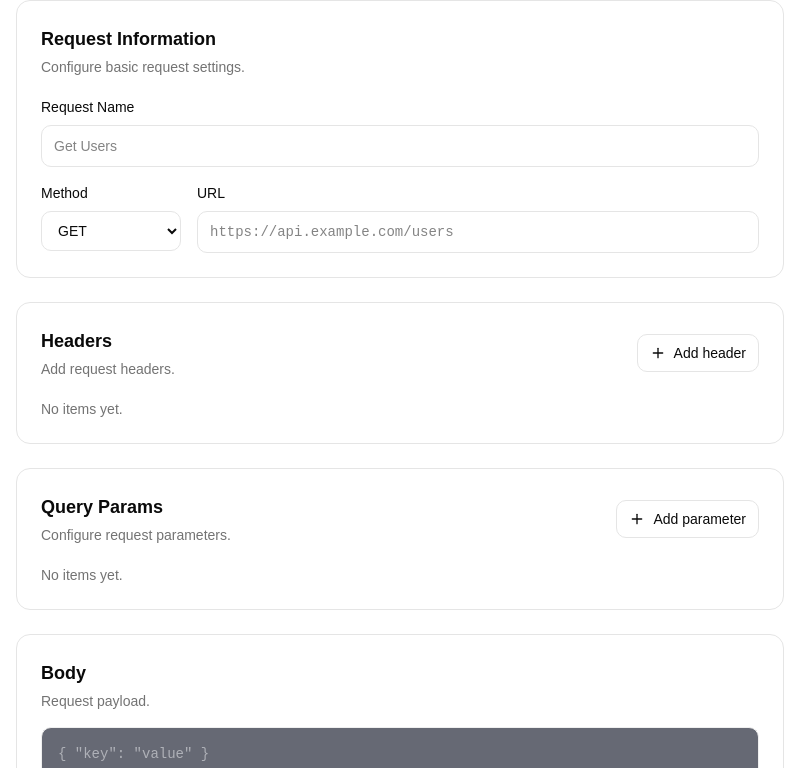
RequestForm (create) › blocks submission when the name field is empty
This screenshot has width=801, height=768.
Type "https://api.dev/users" into the field labelled "URL".
click(478, 232); type("https://api.dev/users")  # box [197, 211, 759, 253]
(page scrolled)
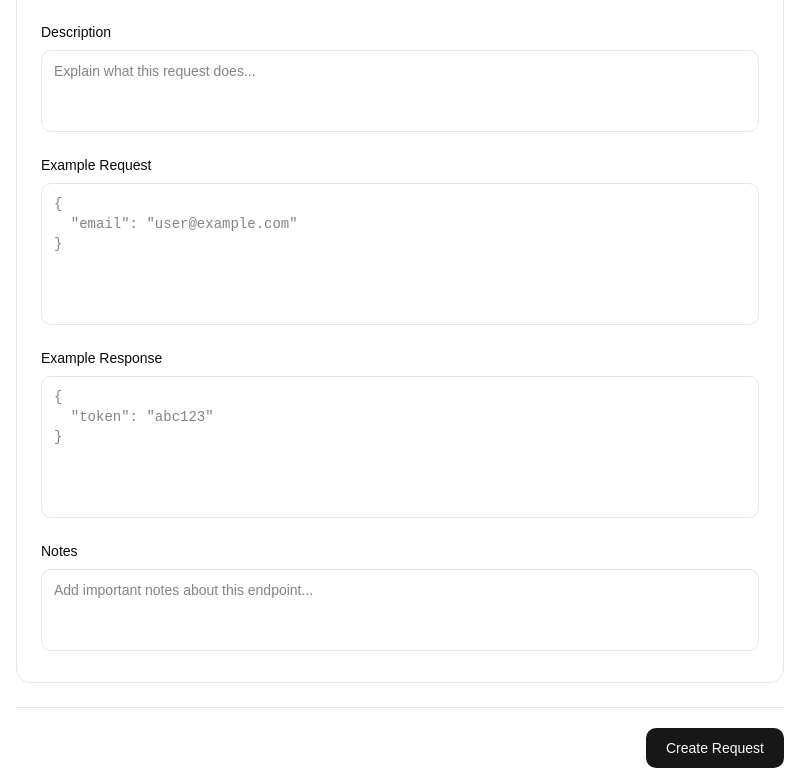
Click the button "Create Request".
click(715, 748)  # box [646, 728, 784, 767]
(page scrolled)
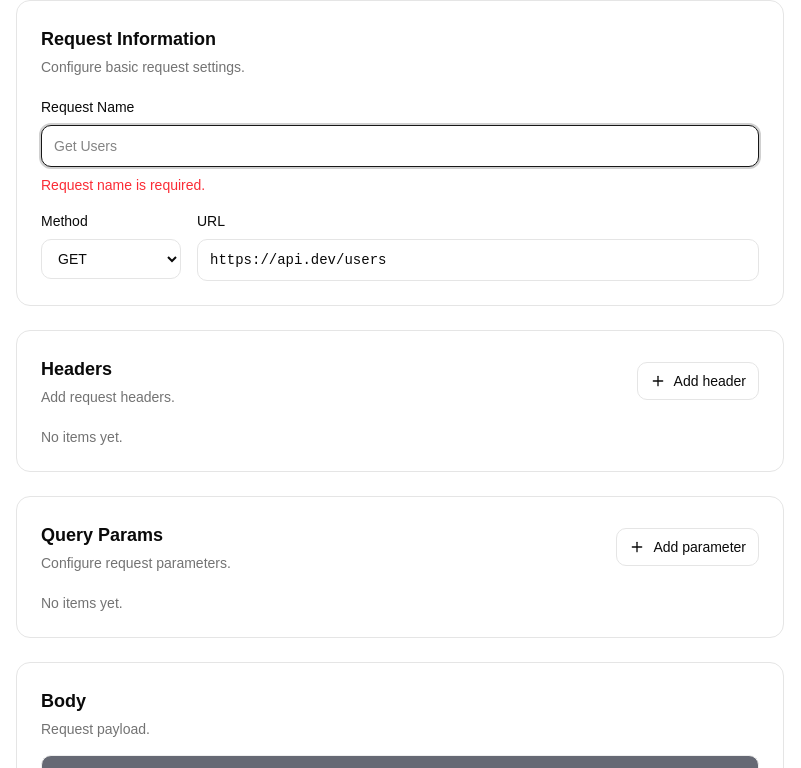
Expected: the text "Request name is required." is shown, [41, 177, 205, 193]
